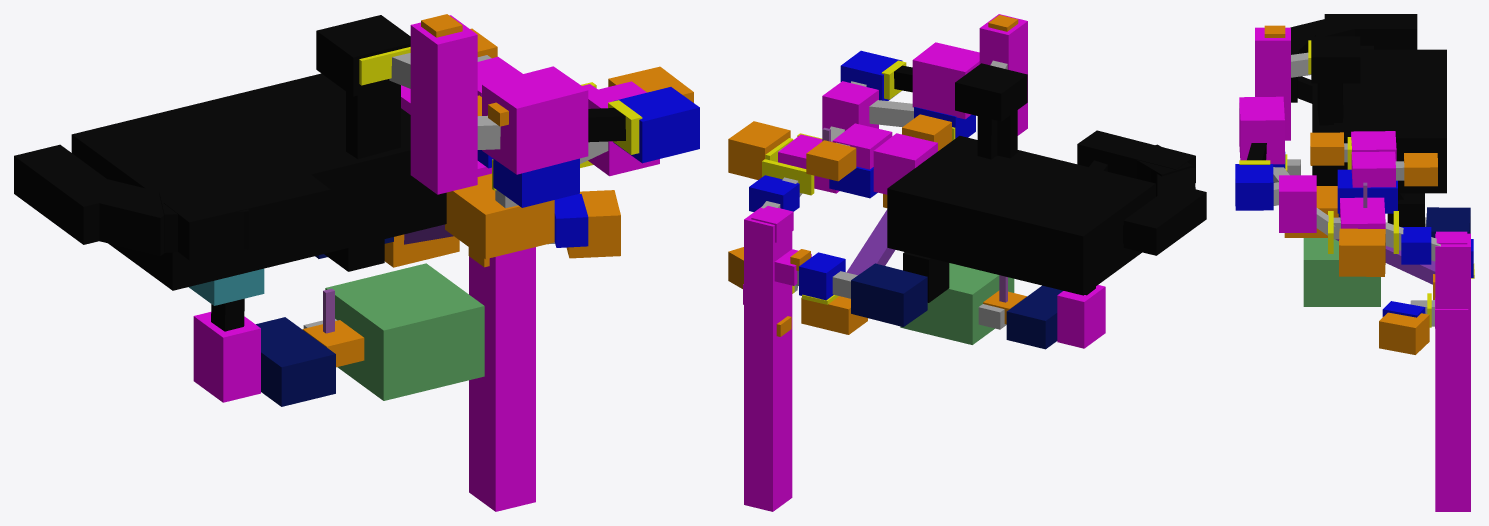
The model's file is PruebaDeNivel.fbx.
3 views of the same model, side by side, from view 1: azimuth 30°, elevation 25°; view 2: azimuth 150°, elevation 25°; view 3: azimuth 270°, elevation 25° (orthographic). The views are drawn at different scales.
Visible parts, largest first — view 1: Propuesta_LEVEL_Sof_0001_entrada11, Propuesta_LEVEL_Sof_0001_plataformeo18, Propuesta_LEVEL_Sof_0001_final, Propuesta_LEVEL_Sof_0001_plataformeo14, Propuesta_LEVEL_Sof_0001_plataformeo17, Propuesta_LEVEL_Sof_0001_tesoro12, Propuesta_LEVEL_Sof_0001_combate_enemigo_pesado3, Propuesta_LEVEL_Sof_0001_plataformeo1, Propuesta_LEVEL_Sof_0001_combate7, Propuesta_LEVEL_Sof_0001_combate5, Propuesta_LEVEL_Sof_0001_tesoro10, Propuesta_LEVEL_Sof_0001_plataformeo5 (+10 smaller); view 2: Propuesta_LEVEL_Sof_0001_entrada11, Propuesta_LEVEL_Sof_0001_plataformeo18, Propuesta_LEVEL_Sof_0001_final, Propuesta_LEVEL_Sof_0001_combate_enemigo_pesado1, Propuesta_LEVEL_Sof_0001_plataformeo17, Propuesta_LEVEL_Sof_0001_combate_enemigo_pesado3, Propuesta_LEVEL_Sof_0001_plataformeo1, Propuesta_LEVEL_Sof_0001_plataformeo14, Propuesta_LEVEL_Sof_0001_plataformeo19, Propuesta_LEVEL_Sof_0001_tesoro3, Propuesta_LEVEL_Sof_0001_plataformeo5, Propuesta_LEVEL_Sof_0001_tesoro2 (+16 smaller); view 3: Propuesta_LEVEL_Sof_0001_entrada11, Propuesta_LEVEL_Sof_0001_plataformeo18, Propuesta_LEVEL_Sof_0001_final, Propuesta_LEVEL_Sof_0001_plataformeo17, Propuesta_LEVEL_Sof_0001_plataformeo14, Propuesta_LEVEL_Sof_0001_tesoro3, Propuesta_LEVEL_Sof_0001_plataformeo5, Propuesta_LEVEL_Sof_0001_tesoro10, Propuesta_LEVEL_Sof_0001_combate7, Propuesta_LEVEL_Sof_0001_plataformeo16, Propuesta_LEVEL_Sof_0001_plataformeo9, LevelDesignEmil_combate11 (+14 smaller).
Part boxes in pixels (box(x1,y1,x2,y2)): Propuesta_LEVEL_Sof_0001_entrada11: box(14, 15, 446, 290); Propuesta_LEVEL_Sof_0001_plataformeo18: box(469, 247, 535, 511); Propuesta_LEVEL_Sof_0001_final: box(325, 263, 484, 400); Propuesta_LEVEL_Sof_0001_plataformeo14: box(410, 15, 477, 194); Propuesta_LEVEL_Sof_0001_plataformeo17: box(482, 66, 588, 174); Propuesta_LEVEL_Sof_0001_tesoro12: box(445, 173, 554, 259); Propuesta_LEVEL_Sof_0001_combate_enemigo_pesado3: box(256, 317, 335, 406); Propuesta_LEVEL_Sof_0001_plataformeo1: box(193, 312, 260, 402); Propuesta_LEVEL_Sof_0001_combate7: box(613, 87, 699, 163); Propuesta_LEVEL_Sof_0001_combate5: box(493, 158, 579, 207); Propuesta_LEVEL_Sof_0001_tesoro10: box(566, 190, 620, 258); Propuesta_LEVEL_Sof_0001_plataformeo5: box(588, 81, 659, 176); Propuesta_LEVEL_Sof_0001_entrada11: box(887, 63, 1206, 302); Propuesta_LEVEL_Sof_0001_plataformeo18: box(744, 206, 792, 511); Propuesta_LEVEL_Sof_0001_final: box(900, 263, 1014, 344); Propuesta_LEVEL_Sof_0001_combate_enemigo_pesado1: box(851, 263, 927, 326); Propuesta_LEVEL_Sof_0001_plataformeo17: box(912, 42, 979, 119); Propuesta_LEVEL_Sof_0001_combate_enemigo_pesado3: box(1006, 285, 1063, 349); Propuesta_LEVEL_Sof_0001_plataformeo1: box(1057, 285, 1105, 348); Propuesta_LEVEL_Sof_0001_plataformeo14: box(979, 14, 1027, 135); Propuesta_LEVEL_Sof_0001_plataformeo19: box(873, 133, 937, 194); Propuesta_LEVEL_Sof_0001_tesoro3: box(728, 121, 790, 179); Propuesta_LEVEL_Sof_0001_plataformeo5: box(822, 81, 878, 130); Propuesta_LEVEL_Sof_0001_tesoro2: box(801, 296, 867, 334); Propuesta_LEVEL_Sof_0001_entrada11: box(1290, 14, 1446, 226); Propuesta_LEVEL_Sof_0001_plataformeo18: box(1435, 233, 1470, 511); Propuesta_LEVEL_Sof_0001_final: box(1303, 238, 1380, 306); Propuesta_LEVEL_Sof_0001_plataformeo17: box(1239, 96, 1284, 164); Propuesta_LEVEL_Sof_0001_plataformeo14: box(1255, 27, 1290, 140); Propuesta_LEVEL_Sof_0001_tesoro3: box(1339, 228, 1385, 276); Propuesta_LEVEL_Sof_0001_plataformeo5: box(1279, 175, 1316, 232); Propuesta_LEVEL_Sof_0001_tesoro10: box(1379, 312, 1429, 354); Propuesta_LEVEL_Sof_0001_combate7: box(1235, 164, 1273, 210); Propuesta_LEVEL_Sof_0001_plataformeo16: box(1351, 151, 1395, 187); Propuesta_LEVEL_Sof_0001_plataformeo9: box(1340, 197, 1385, 228); LevelDesignEmil_combate11: box(1337, 169, 1397, 213).
Bounding box in the file's own units: 14165 × 13484 × 7097.
